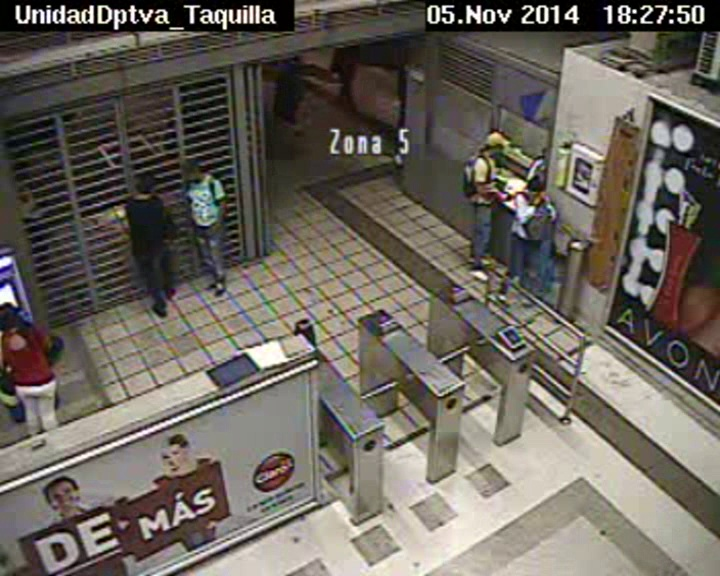person: (481, 129, 510, 159), (131, 171, 156, 199), (182, 158, 206, 184), (523, 169, 547, 195), (1, 302, 24, 329)
